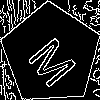M: (26, 29, 86, 91)
